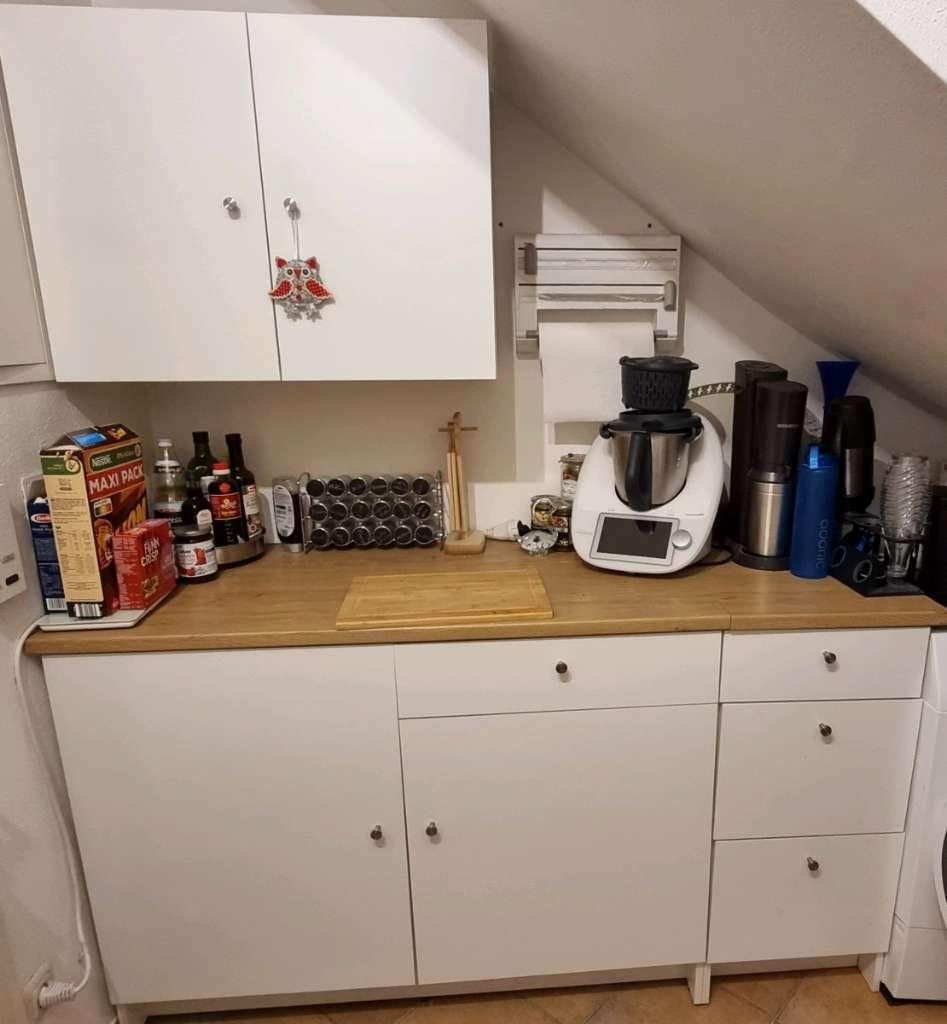cabinet_door: (88, 672, 399, 1005), (27, 7, 261, 375), (415, 707, 716, 969), (268, 20, 488, 378), (719, 709, 913, 830), (402, 643, 718, 710), (713, 843, 892, 955), (726, 639, 924, 696)
handle: (278, 193, 305, 220), (365, 819, 389, 848), (550, 658, 573, 685), (218, 192, 240, 220), (421, 817, 444, 842), (817, 719, 838, 746), (802, 854, 823, 880), (819, 650, 841, 674)
